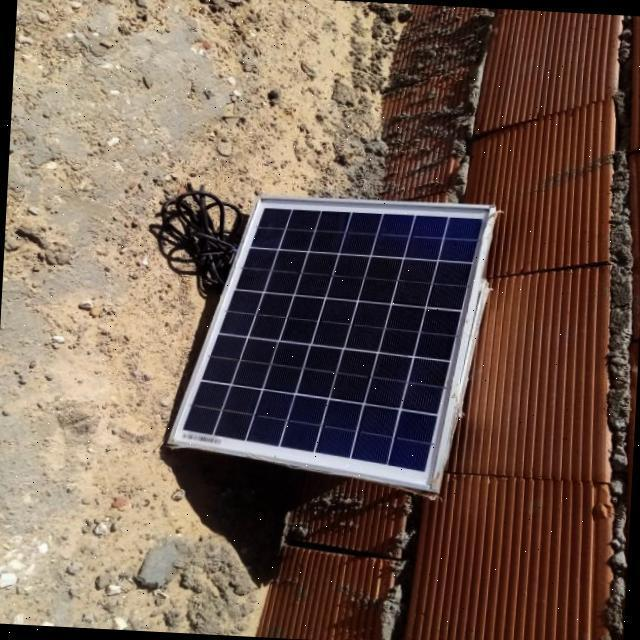Normal Solar Panel: (167, 190, 492, 492)
